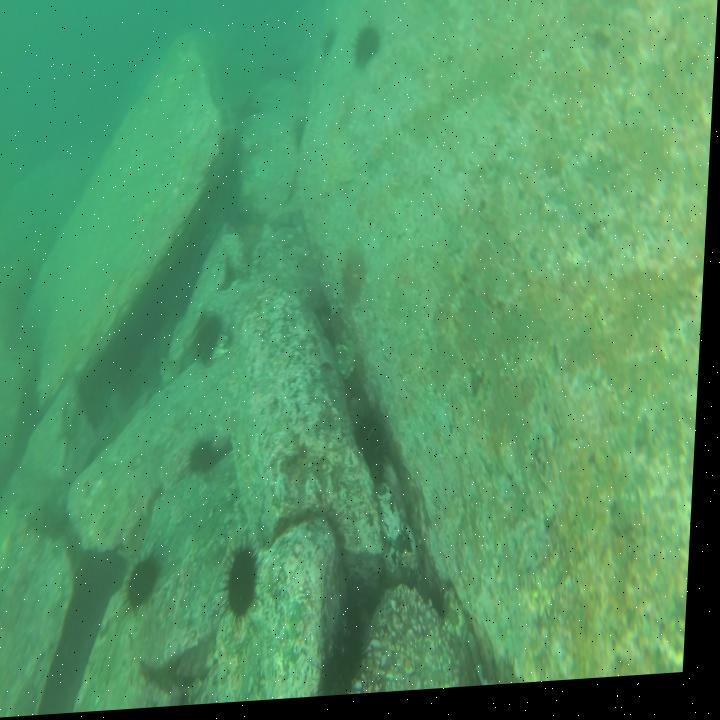echinus: (221, 537, 270, 639), (351, 415, 393, 495), (129, 548, 169, 617), (340, 249, 375, 313), (196, 310, 229, 372), (347, 24, 382, 75), (189, 435, 223, 482), (320, 30, 338, 66)
